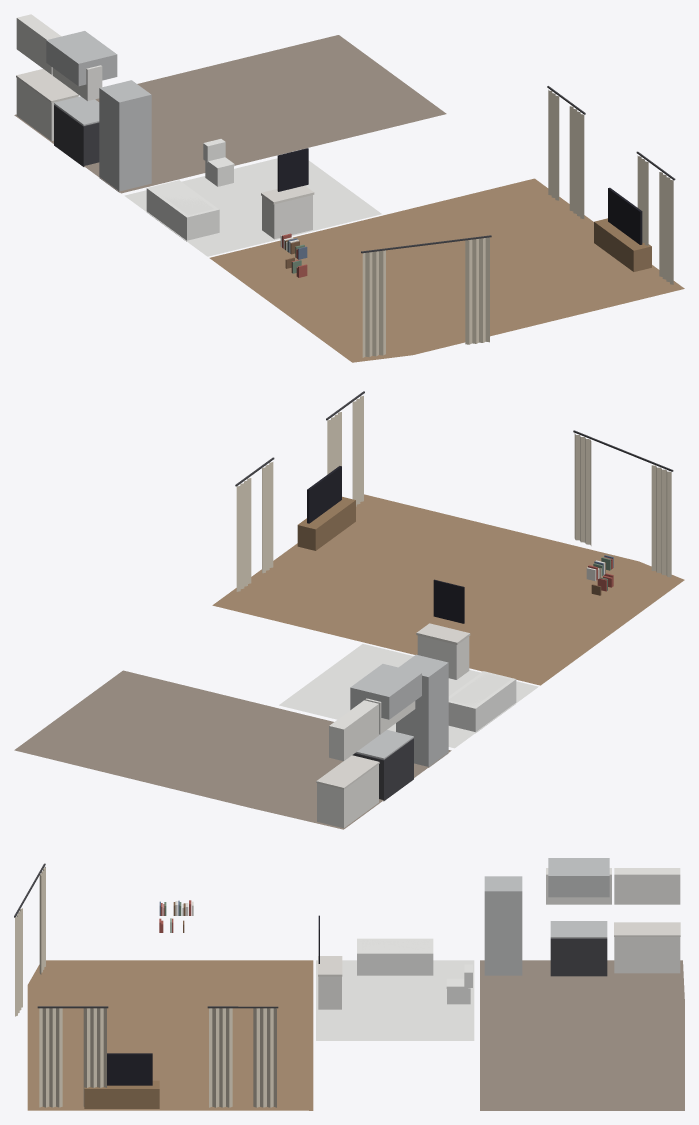
The model's file is fine-s1.glb.
3 renders of one model, top to bottom at view 1: azimuth 30°, elevation 25°; view 2: azimuth 150°, elevation 25°; view 3: azimuth 270°, elevation 25°, orthographic. The views are drawn at different scales.
Parts seen in each view (by area): view 1: soft-s1, range.000, fridge.000, vanity.000, bathtub.000, tv-console.001, counter-run.000, kitchen-upper.000, toilet.000, kitchen-upper.001; view 2: soft-s1, range.000, fridge.000, counter-run.000, vanity.000, tv-console.001, bathtub.000, kitchen-upper.000; view 3: soft-s1, range.000, fridge.000, counter-run.000, tv-console.001, bathtub.000, kitchen-upper.000, vanity.000, toilet.000, kitchen-upper.001.
Boxes of the visible parts, x1,y1,x2,y2 form: soft-s1: [14, 35, 684, 362]; range.000: [46, 31, 117, 166]; fridge.000: [99, 80, 151, 192]; vanity.000: [261, 148, 314, 239]; bathtub.000: [146, 180, 219, 241]; tv-console.001: [594, 187, 651, 271]; counter-run.000: [16, 69, 78, 141]; kitchen-upper.000: [16, 14, 61, 74]; toilet.000: [203, 139, 234, 186]; kitchen-upper.001: [52, 65, 102, 100]; soft-s1: [14, 391, 684, 829]; range.000: [350, 664, 421, 801]; fridge.000: [396, 654, 448, 767]; counter-run.000: [316, 755, 379, 828]; vanity.000: [416, 579, 470, 679]; tv-console.001: [297, 466, 355, 550]; bathtub.000: [448, 671, 516, 732]; kitchen-upper.000: [329, 700, 378, 761]; soft-s1: [14, 863, 684, 1110]; range.000: [548, 858, 609, 976]; fridge.000: [484, 876, 522, 975]; counter-run.000: [614, 922, 680, 973]; tv-console.001: [84, 1053, 159, 1108]; bathtub.000: [357, 938, 433, 975]; kitchen-upper.000: [614, 868, 680, 904]; vanity.000: [318, 915, 342, 1009]; toilet.000: [446, 964, 472, 1004]; kitchen-upper.001: [546, 868, 611, 904].
Size of the model in its own units: 7.72 by 2.41 by 14.25.
